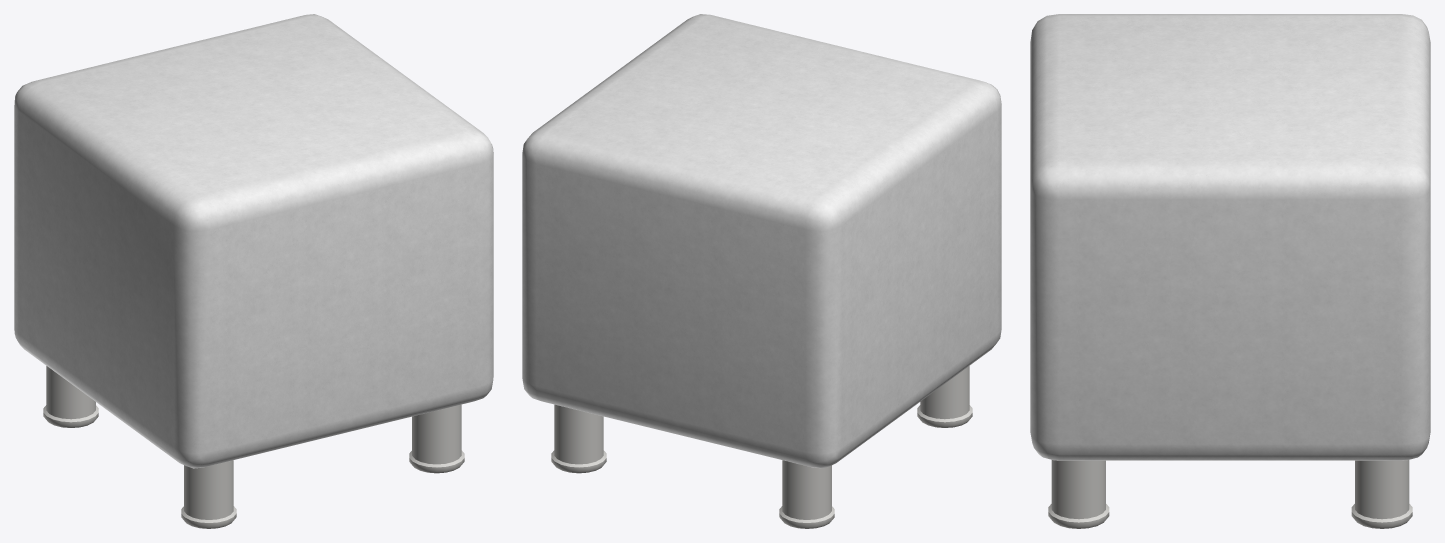
File: Ottoman01.FBX
3 views of the same model, side by side, from view 1: azimuth 30°, elevation 25°; view 2: azimuth 150°, elevation 25°; view 3: azimuth 270°, elevation 25° (orthographic). The views are drawn at different scales.
Visible parts, largest first — view 1: Ottoman01; view 2: Ottoman01; view 3: Ottoman01.
Boxes of the visible parts, box(x1,y1,x2,y2) form: Ottoman01: box(14, 14, 493, 528); Ottoman01: box(522, 14, 1001, 528); Ottoman01: box(1030, 14, 1430, 528).
Size of the model in its own units: 58.35 by 59.01 by 58.35.
